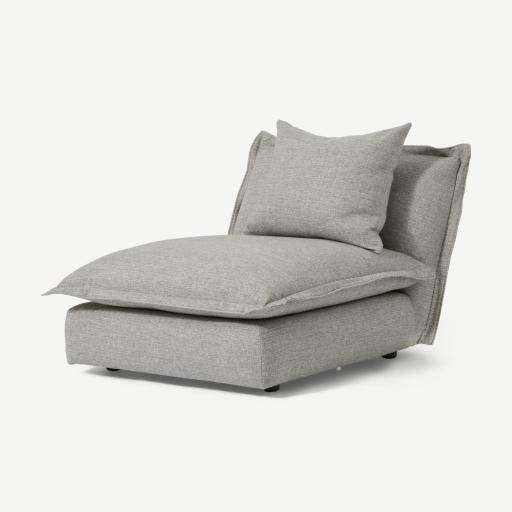back_cushion: (239, 121, 410, 253)
base: (65, 291, 413, 389)
left_arm: (381, 145, 470, 344)
legs: (381, 351, 397, 359), (264, 385, 280, 392), (106, 367, 120, 371), (336, 367, 340, 371)
one-seater: (0, 0, 511, 512)
seat_cushion: (45, 235, 434, 319)
